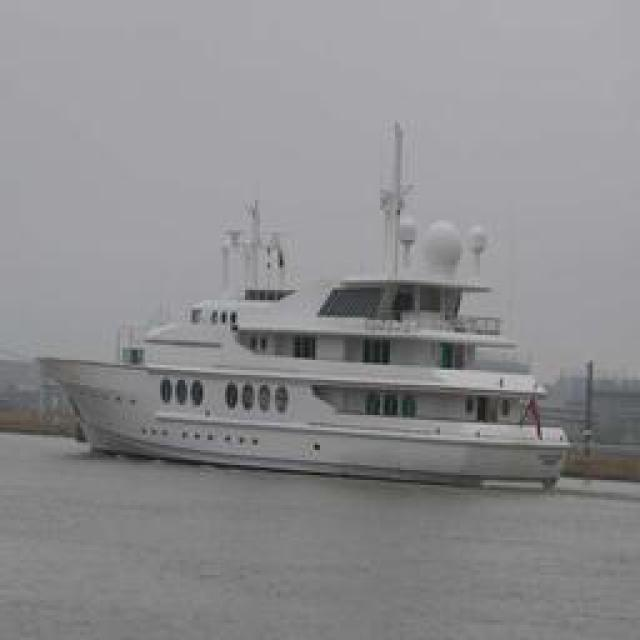Ship: (52, 216, 570, 494)
